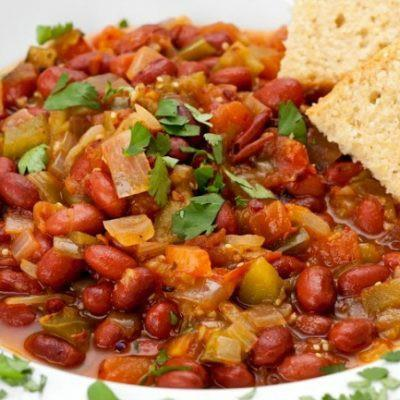RajmaCurry: (4, 12, 396, 379)
